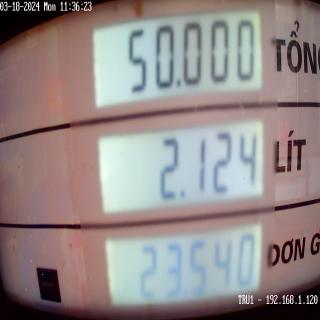screen: (84, 0, 270, 319)
